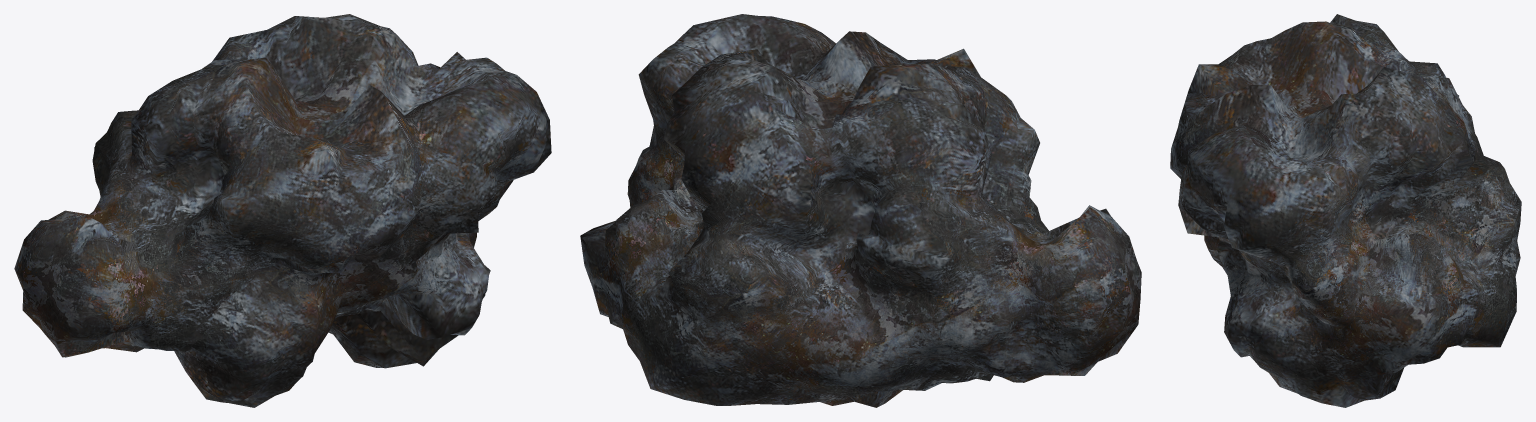
Rendered from Rocky_Asteroid_3.obj.
3 views of the same model, side by side, from view 1: azimuth 30°, elevation 25°; view 2: azimuth 150°, elevation 25°; view 3: azimuth 270°, elevation 25° (orthographic). The views are drawn at different scales.
Visible parts, largest first — view 1: Rocky_Asteroid_3; view 2: Rocky_Asteroid_3; view 3: Rocky_Asteroid_3.
Boxes of the visible parts, x1,y1,x2,y2 form: Rocky_Asteroid_3: (14,14,551,407); Rocky_Asteroid_3: (580,14,1141,407); Rocky_Asteroid_3: (1170,14,1521,407).
Size of the model in its own units: 1.93 by 1.28 by 1.32.
1 material, 1 textured.
